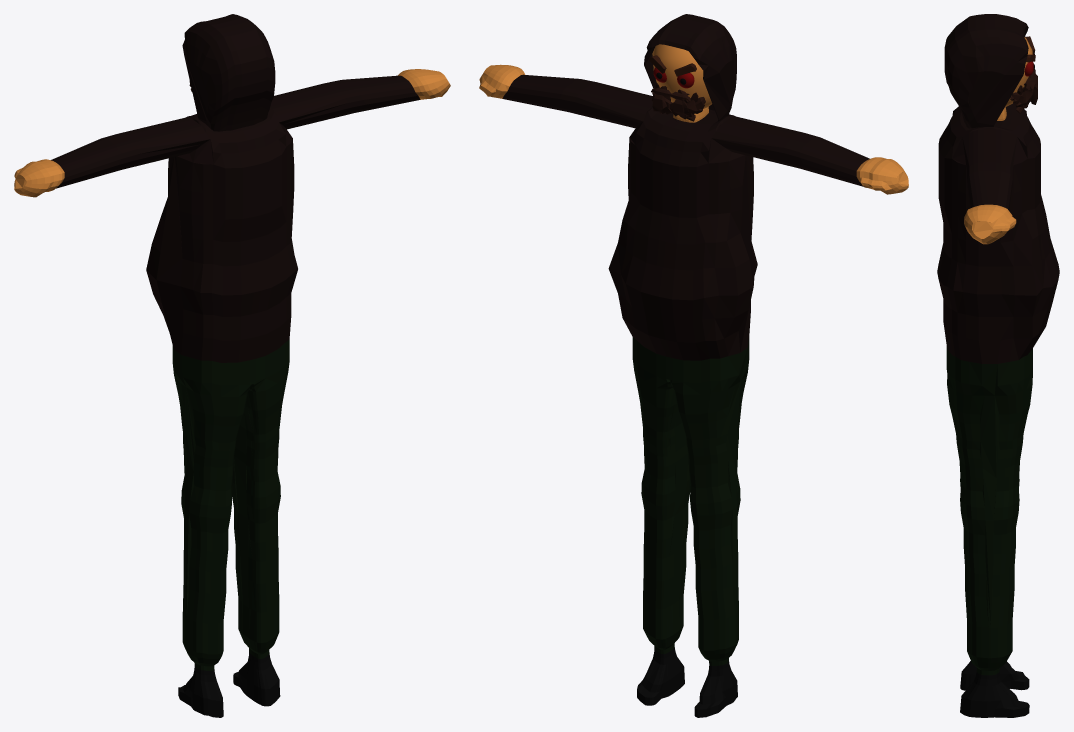
Rendered from Crackhead.obj.
3 renders of one model, left to right at view 1: azimuth 30°, elevation 25°; view 2: azimuth 150°, elevation 25°; view 3: azimuth 270°, elevation 25°, orthographic.
Parts seen in each view (by area): view 1: Plane, Plane.001; view 2: Plane, Plane.001, Icosphere, Icosphere.001; view 3: Plane, Plane.001, Icosphere.001, Icosphere.
Part boxes in pixels (bbox=[...]): Plane: bbox=[14, 69, 450, 717]; Plane.001: bbox=[182, 14, 275, 131]; Plane: bbox=[479, 64, 908, 717]; Plane.001: bbox=[644, 14, 736, 121]; Icosphere: bbox=[649, 44, 712, 108]; Icosphere.001: bbox=[651, 83, 705, 121]; Plane: bbox=[937, 103, 1059, 717]; Plane.001: bbox=[944, 14, 1028, 128]; Icosphere.001: bbox=[1010, 69, 1037, 113]; Icosphere: bbox=[1005, 36, 1035, 107].
Bounding box in the file's own units: 1.28 × 1.92 × 0.3127.
